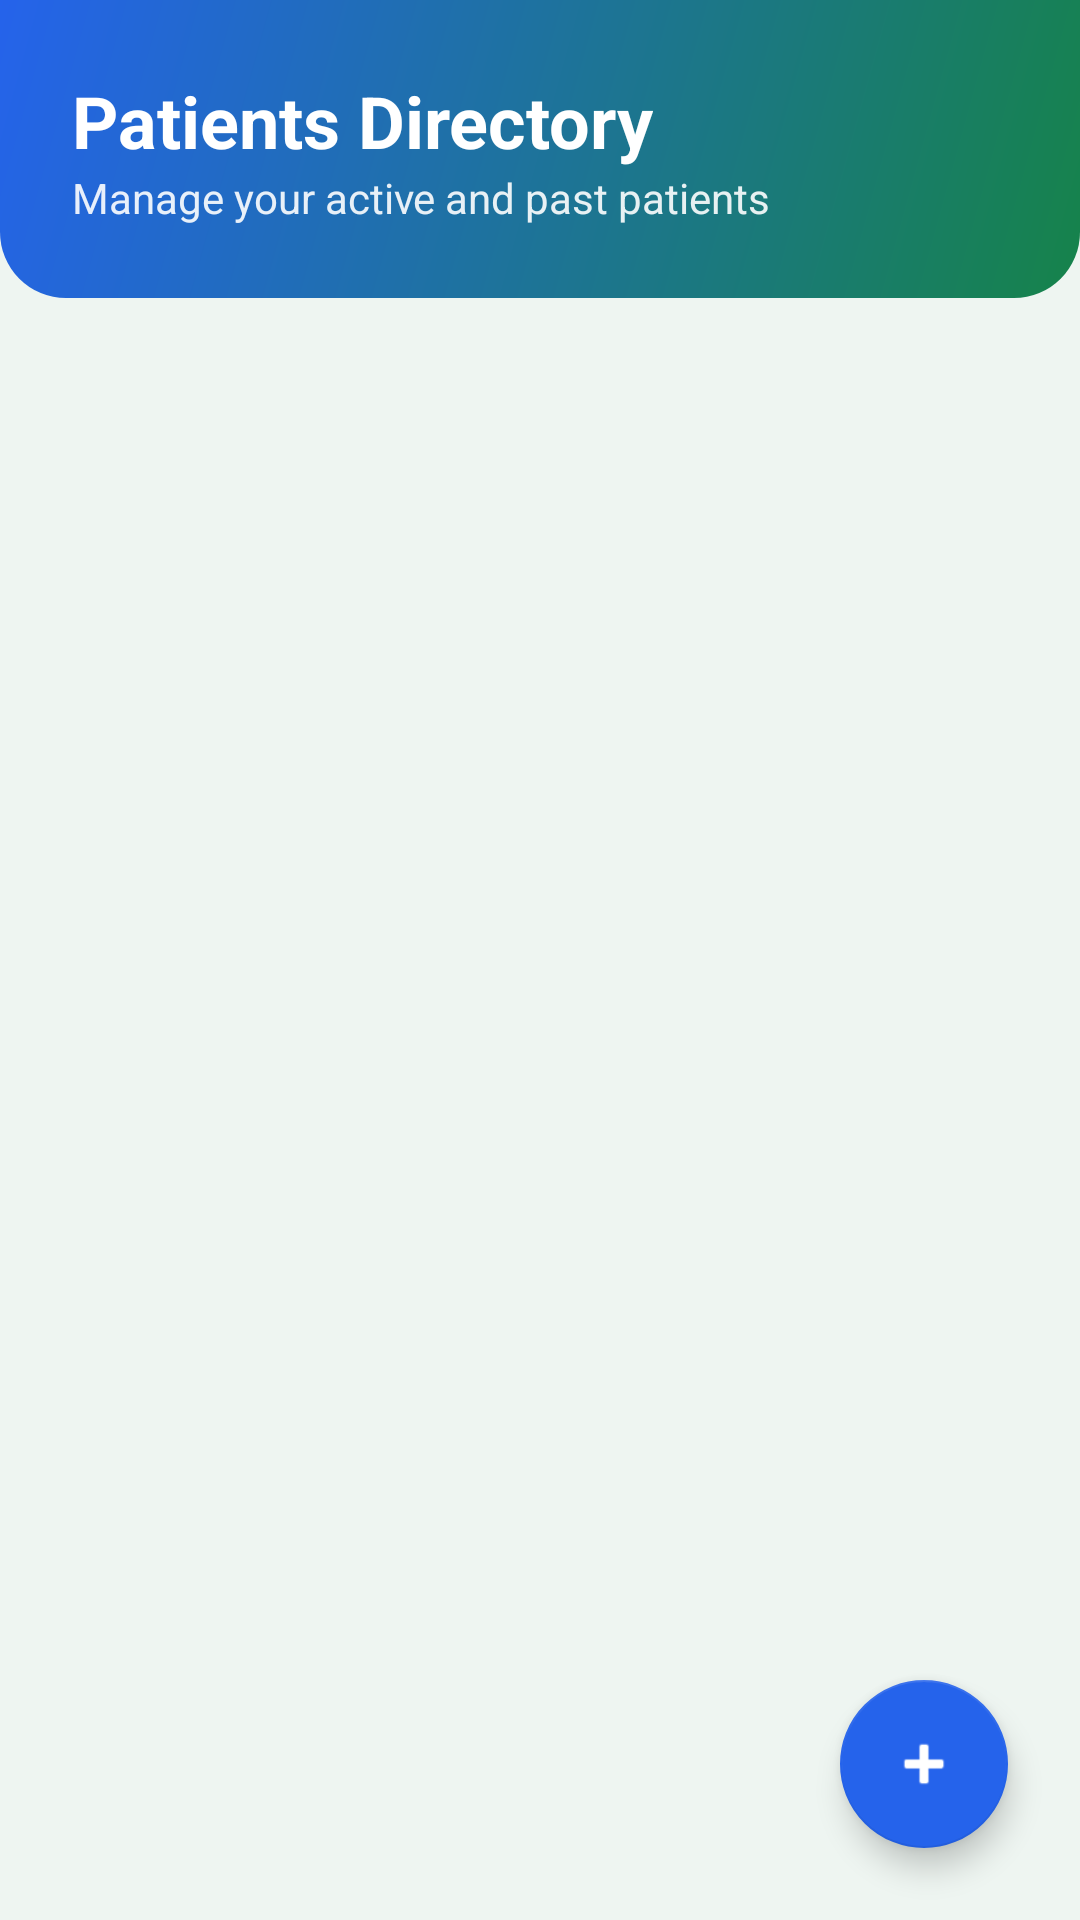

Icon bounding boxes for this 1080w x 1920h phone screenshot, format (x1, y1, x2, y2):
add: (840, 1680, 1008, 1848)
